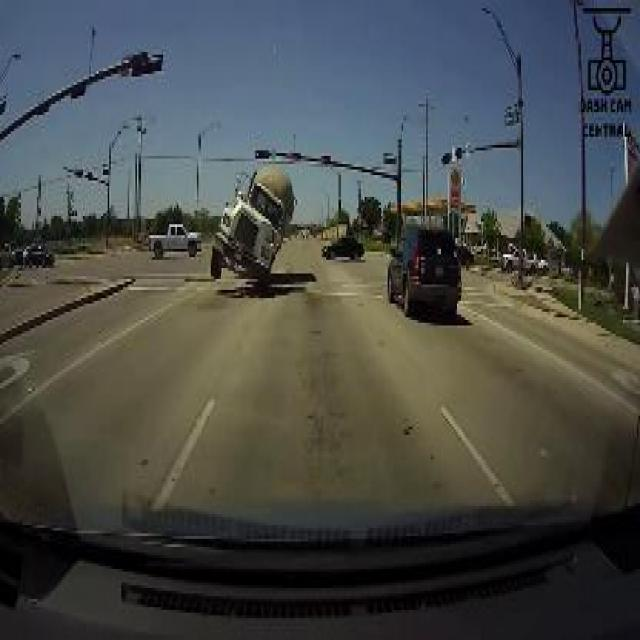accident: (206, 145, 300, 298)
